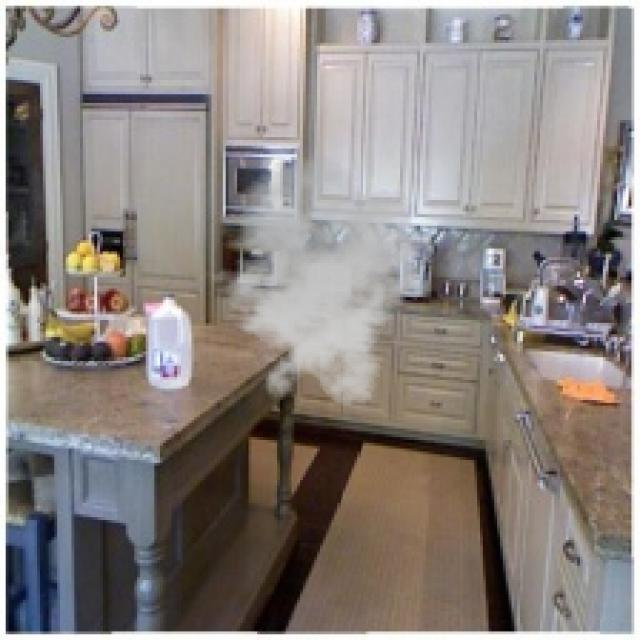Smoke: (200, 154, 440, 409)
